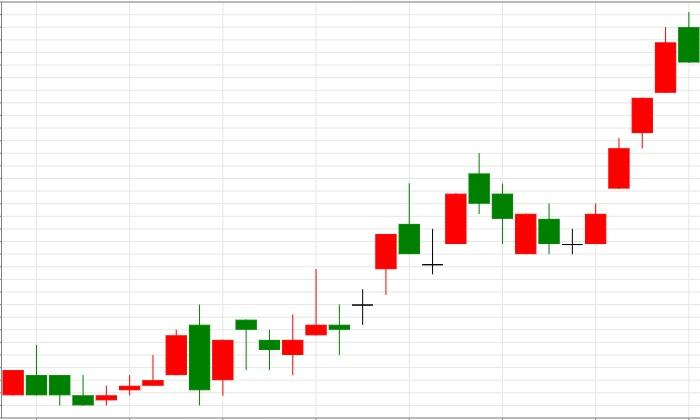bearish_engulfing_fall: (72, 304, 211, 406)
morning_star_rise: (467, 151, 608, 254)
three_white_soldiers_rise: (467, 97, 654, 254)
